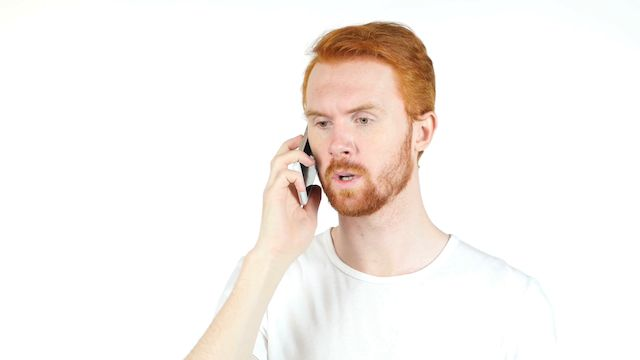phone: (284, 126, 326, 212)
talk: (259, 99, 405, 255)
